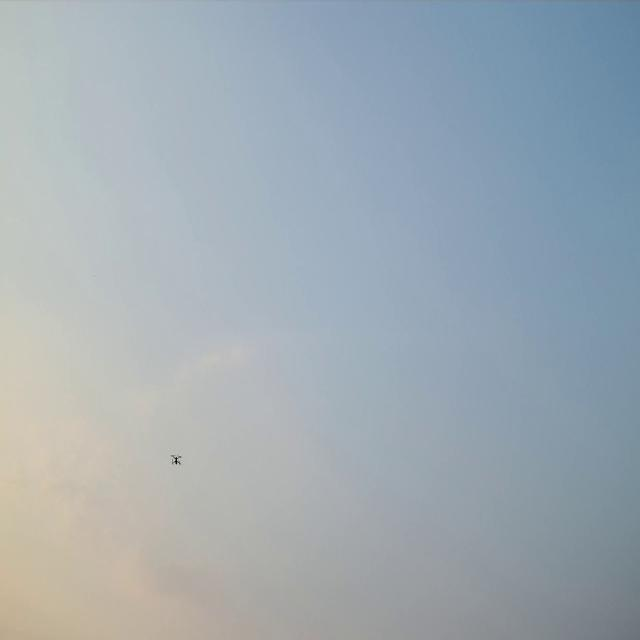UAV: (172, 455, 180, 464)
